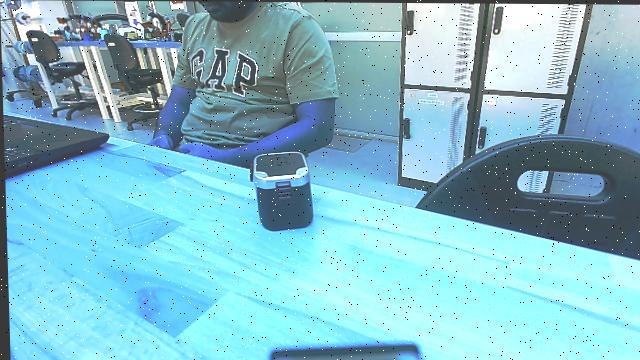adapter: (243, 146, 319, 233)
